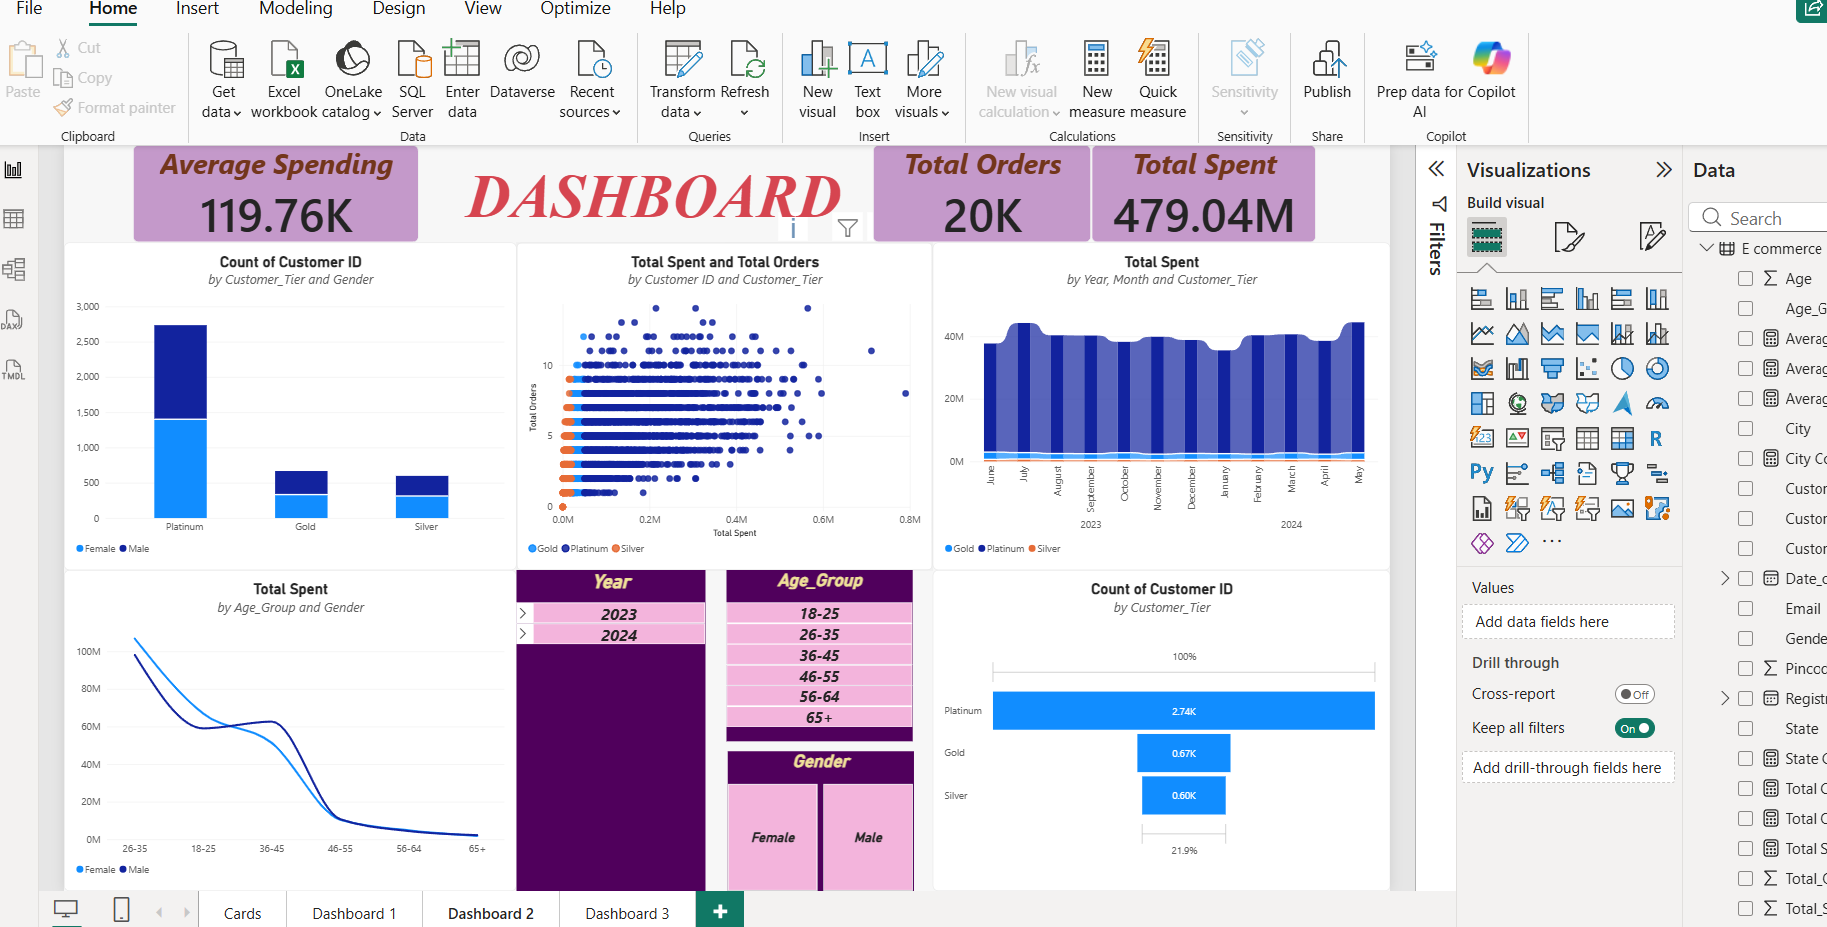

This screenshot's page, from the dashboard's own definition file:
{"tool":"powerbi","page":{"name":"Dashboard 2","canvas":[1920,1080],"ordinal":2},"visuals":[{"type":"columnChart","fields":{"Category":["E commerce Data.Customer_Tier"],"Series":["E commerce Data.Gender"],"Y":["CountNonNull(E commerce Data.Customer ID)"]},"box":[0,141.2,655.1,474.1],"z":0},{"type":"scatterChart","fields":{"Category":["E commerce Data.Customer ID"],"Series":["E commerce Data.Customer_Tier"],"X":["E commerce Data.Total Spent"],"Y":["E commerce Data.Total Orders"]},"box":[655.1,141.2,602.6,474.1],"z":1000},{"type":"ribbonChart","fields":{"Category":["E commerce Data.Registration_Date.Variation.Date Hierarchy.Year","E commerce Data.Registration_Date.Variation.Date Hierarchy.Month"],"Series":["E commerce Data.Customer_Tier"],"Y":["E commerce Data.Total Spent"]},"box":[1257.7,141.2,662.3,474.1],"z":2000},{"type":"lineChart","fields":{"Category":["E commerce Data.Age_Group"],"Series":["E commerce Data.Gender"],"Y":["E commerce Data.Total Spent"]},"box":[0,615.3,655.1,465.1],"z":3000},{"type":"funnel","fields":{"Category":["E commerce Data.Customer_Tier"],"Y":["CountNonNull(E commerce Data.Customer ID)"]},"box":[1257.7,615.3,662.3,465.1],"z":4000},{"type":"cardVisual","fields":{"Data":["E commerce Data.Total Spent"]},"box":[1487.5,0,325.7,141.2],"z":5000},{"type":"cardVisual","fields":{"Data":["E commerce Data.Total Orders"]},"box":[1170.9,0,316.7,141.2],"z":6000},{"type":"cardVisual","fields":{"Data":["E commerce Data.Average Spending"]},"box":[99.5,0,414.4,141.2],"z":7000},{"type":"listSlicer","fields":{"Values":["E commerce Data.Registration_Date.Variation.Date Hierarchy.Year","E commerce Data.Registration_Date.Variation.Date Hierarchy.Month"]},"box":[667.8,615.3,273.3,465.1],"z":8000},{"type":"listSlicer","fields":{"Values":["E commerce Data.Age_Group"]},"box":[959.1,615.3,269.6,247.9],"z":9000},{"type":"advancedSlicerVisual","fields":{"Values":["E commerce Data.Gender"]},"box":[960.9,877.7,269.6,202.7],"z":10000},{"type":"textbox","box":[537.5,23.5,633.4,117.6],"z":12000}]}

Visuals, with their boxes on the page's 1920x1080 design canvas (x1, y1, x2, y2). These are canvas units, not pixel positions in the 1827x927 screenshot, which may show the page scaled, cropped or inside an application window:
columnChart - E commerce Data.Customer_Tier x E commerce Data.Gender: 0:141:655:615
scatterChart - E commerce Data.Customer ID x E commerce Data.Customer_Tier: 655:141:1258:615
ribbonChart - E commerce Data.Registration_Date.Variation.Date Hierarchy.Year x E commerce Data.Registration_Date.Variation.Date Hierarchy.Month: 1258:141:1920:615
lineChart - E commerce Data.Age_Group x E commerce Data.Gender: 0:615:655:1080
funnel - E commerce Data.Customer_Tier x CountNonNull(E commerce Data.Customer ID): 1258:615:1920:1080
cardVisual - E commerce Data.Total Spent: 1488:0:1813:141
cardVisual - E commerce Data.Total Orders: 1171:0:1488:141
cardVisual - E commerce Data.Average Spending: 100:0:514:141
listSlicer - E commerce Data.Registration_Date.Variation.Date Hierarchy.Year x E commerce Data.Registration_Date.Variation.Date Hierarchy.Month: 668:615:941:1080
listSlicer - E commerce Data.Age_Group: 959:615:1229:863
advancedSlicerVisual - E commerce Data.Gender: 961:878:1230:1080
textbox: 538:24:1171:141
